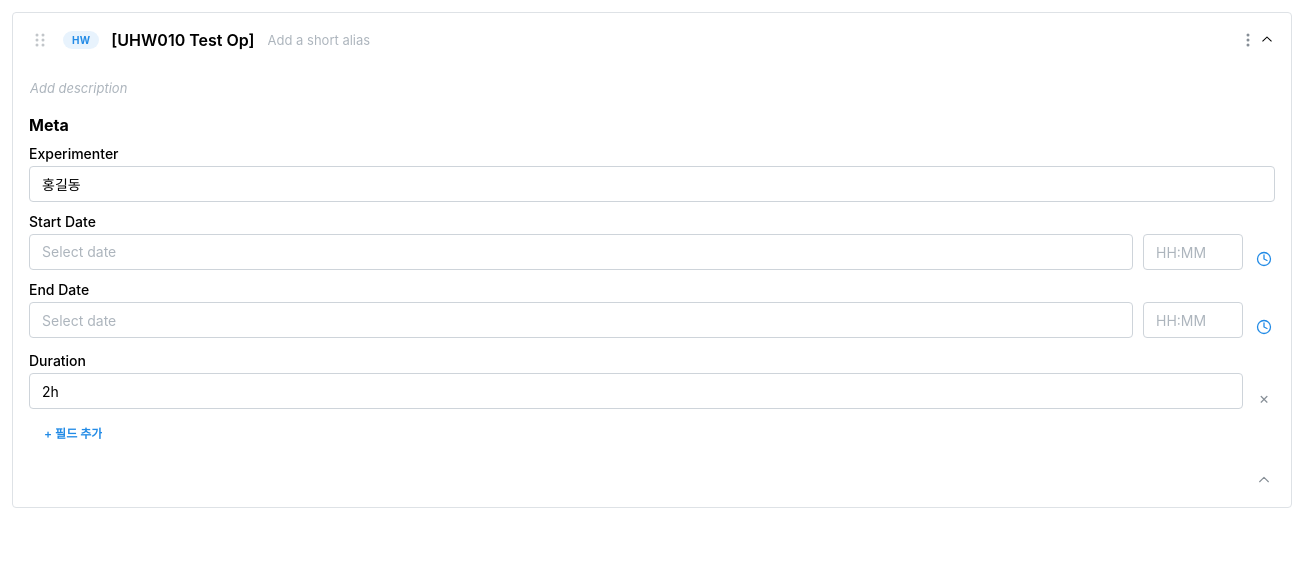
Test: UnitOpAccordion Meta custom fields › rejects a duplicate field name
Click the button "+ 필드 추가".
click(73, 434)  # box [29,419,117,449]
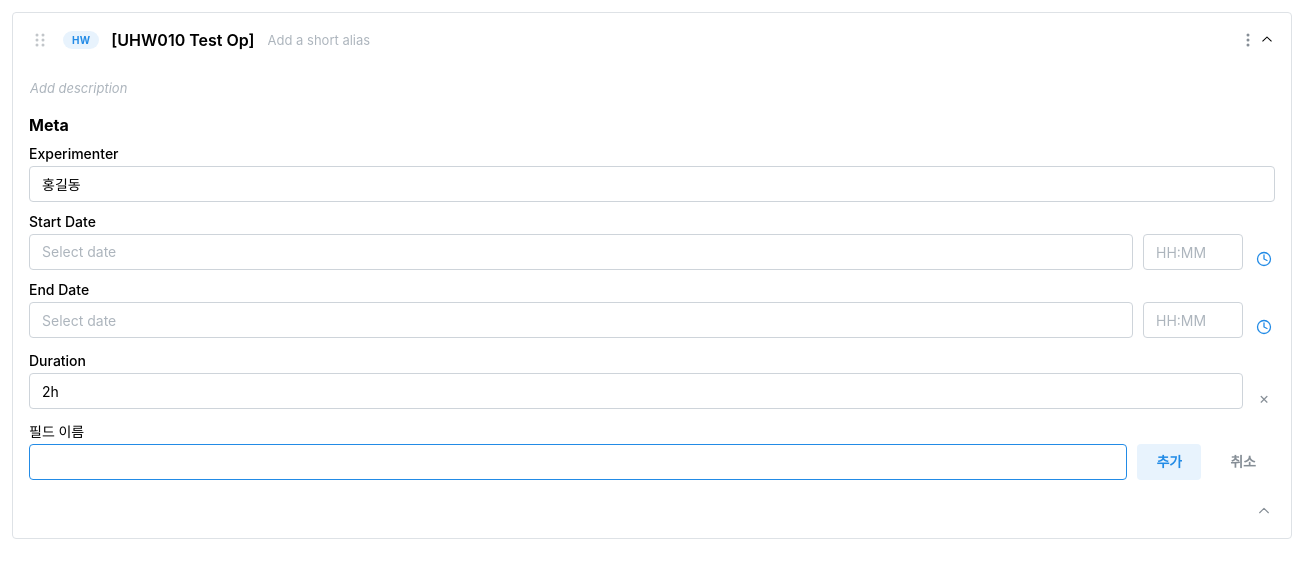
Type "Duration" into the field labelled "필드 이름".
click(578, 462); type("Duration")  # box [29,444,1128,480]
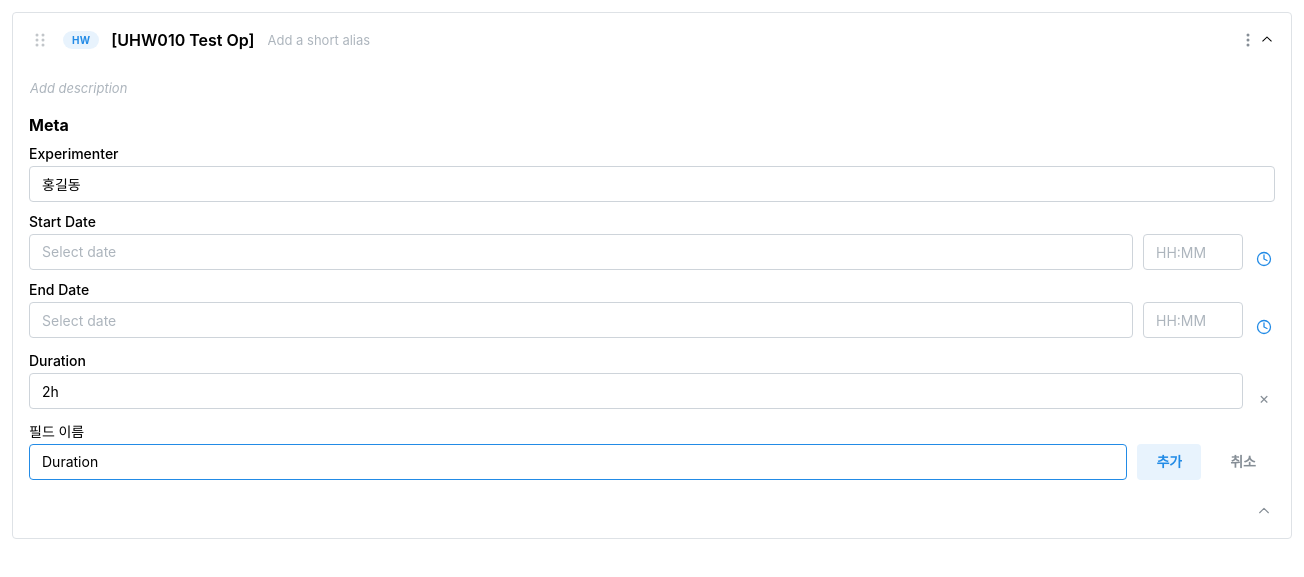
Click the button "추가".
click(1169, 462)  # box [1138,444,1201,480]
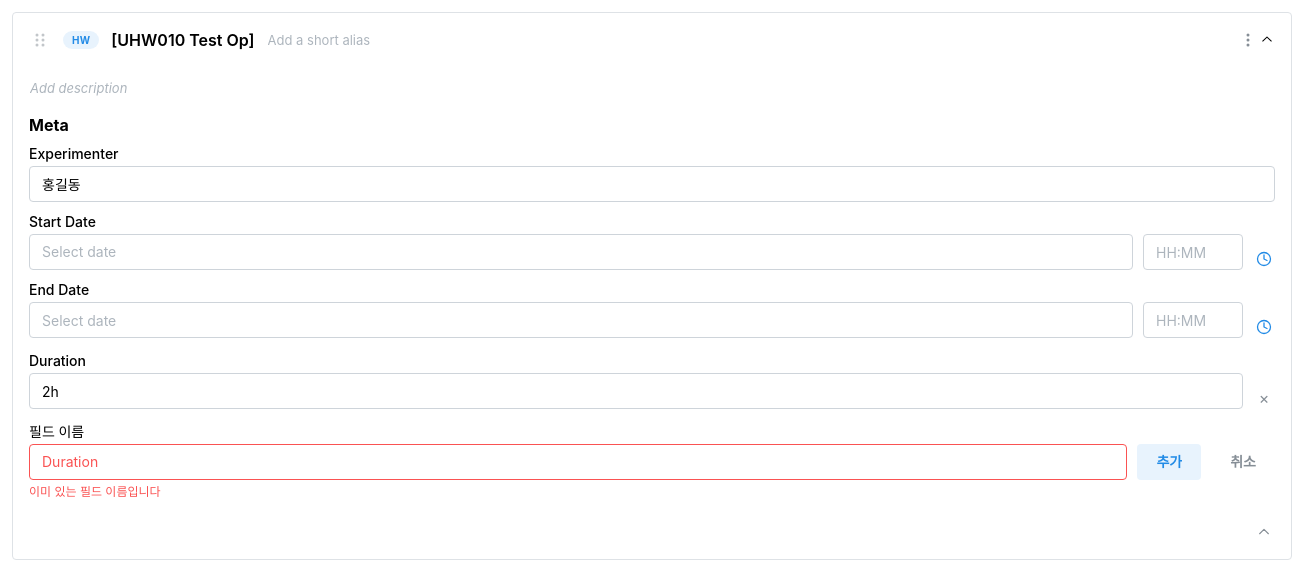
Check: the text "이미 있는 필드 이름입니다" is shown, box [29,484,161,499]
